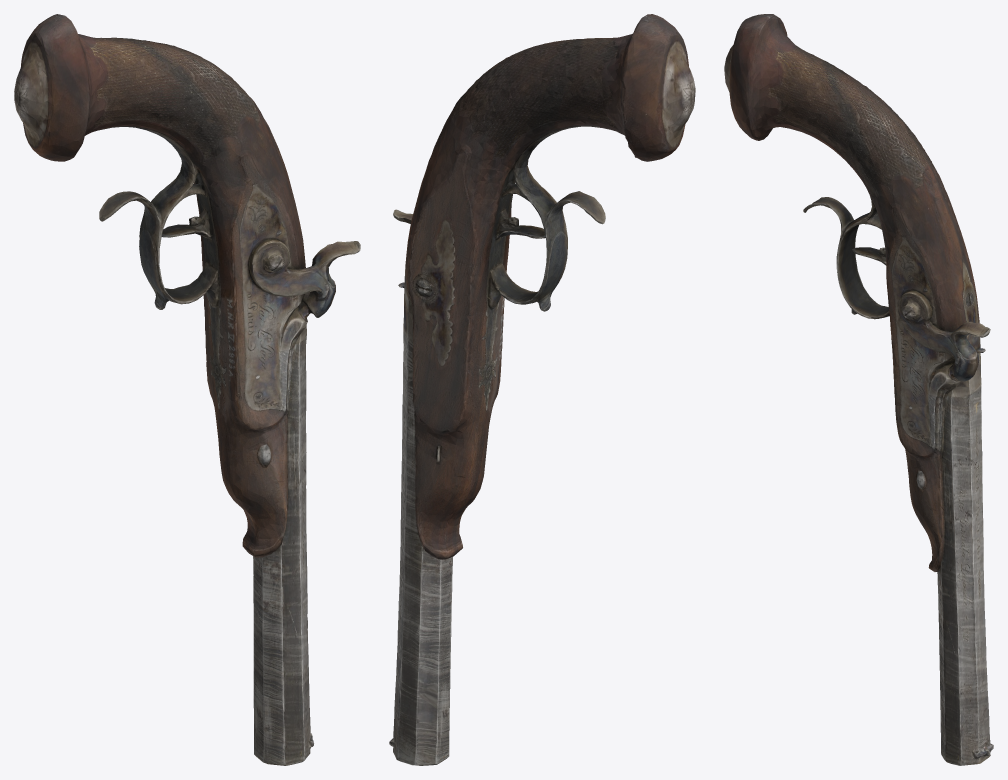
File: bird.glb
3 renders of one model, left to right at view 1: azimuth 30°, elevation 25°; view 2: azimuth 150°, elevation 25°; view 3: azimuth 330°, elevation 25°, orthographic. The views are drawn at different scales.
Parts seen in each view (by area): view 1: gun; view 2: gun; view 3: gun.
Boxes of the visible parts, left/top/right/bottom form: gun: left=14, top=14, right=360, bottom=765; gun: left=389, top=14, right=695, bottom=765; gun: left=724, top=14, right=993, bottom=765.
Size of the model in its own units: 0.5358 by 1.27 by 0.1491.
Materials: 1 (1 with a texture image).
